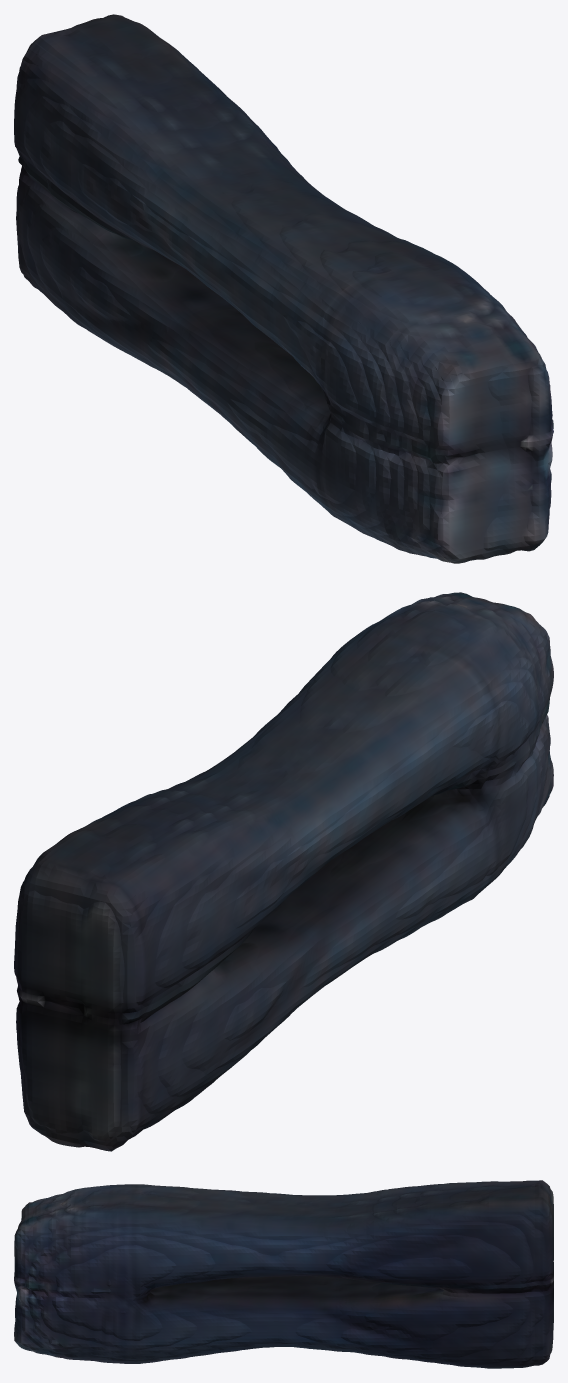
3 views of the same model, one above another, from view 1: azimuth 30°, elevation 25°; view 2: azimuth 150°, elevation 25°; view 3: azimuth 270°, elevation 25° (orthographic). The views are drawn at different scales.
Bounding box in the file's own units: 0.2132 × 0.3341 × 0.9614.
